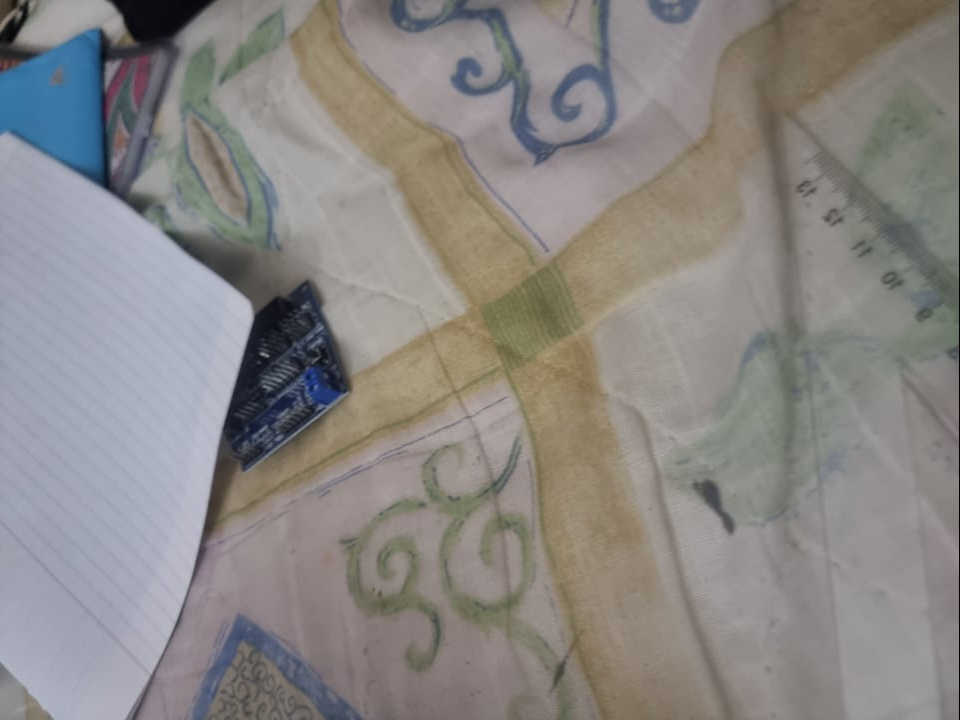5V EXPANSION: (213, 278, 351, 472)
